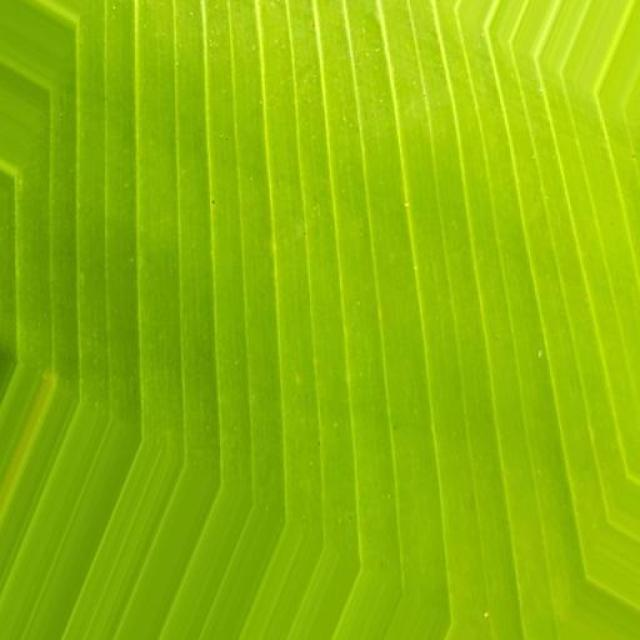Black_leaf_spot: (0, 0, 614, 599)
